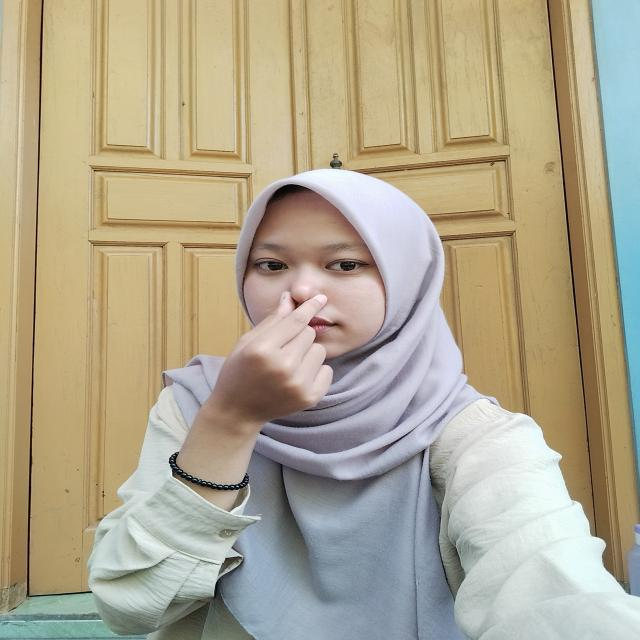bau: (196, 271, 340, 425)
